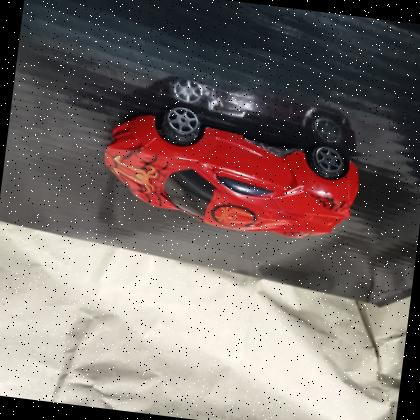Car: (93, 94, 374, 253)
